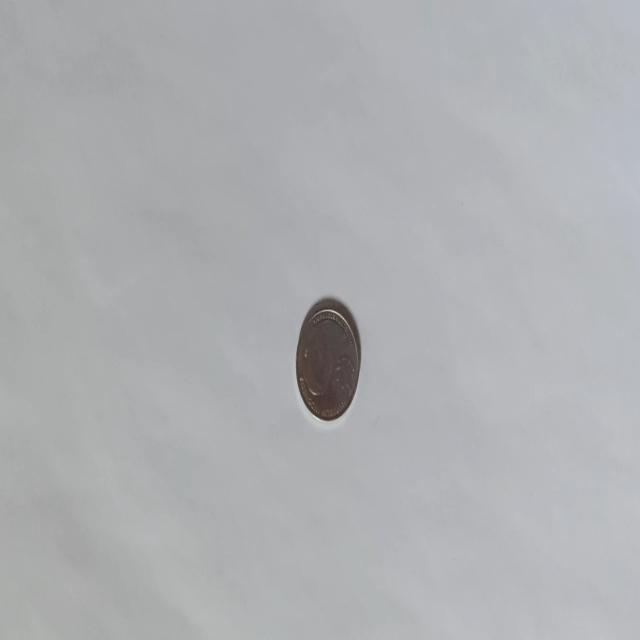seribu rupiah koin: (294, 297, 361, 423)
